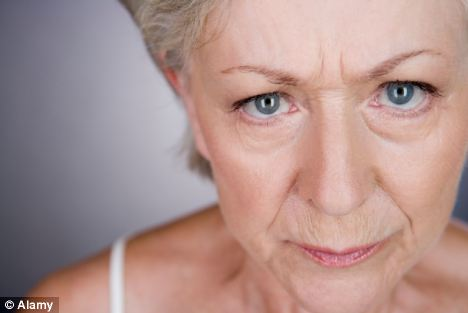sad: (182, 5, 455, 313)
